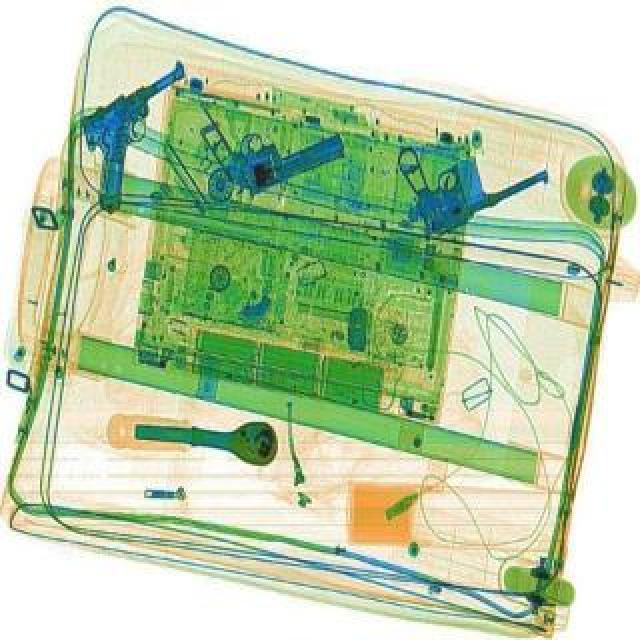gun: (50, 58, 234, 212), (380, 98, 552, 238), (196, 80, 352, 202)
